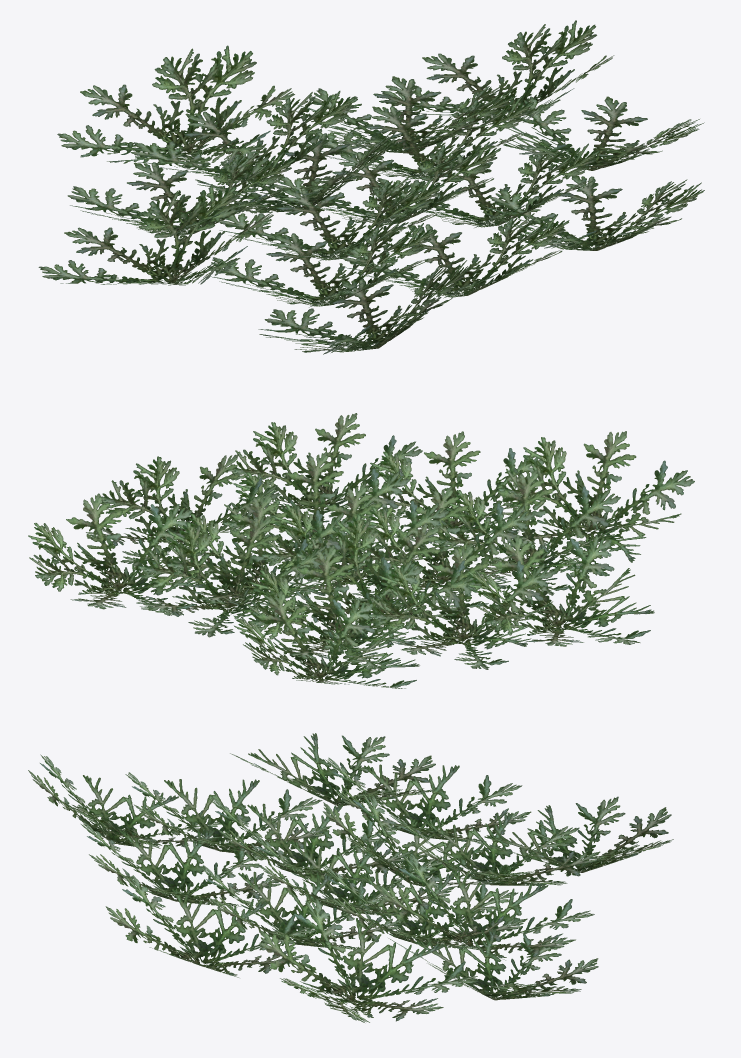
File: ptch_groundleafs_lg_l0.fbx
3 renders of one model, top to bottom at view 1: azimuth 30°, elevation 25°; view 2: azimuth 150°, elevation 25°; view 3: azimuth 270°, elevation 25°, orthographic. The views are drawn at different scales.
Parts seen in each view (by area): view 1: mesh_node; view 2: mesh_node; view 3: mesh_node.
Part boxes in pixels (x1,y1,x2,y2): mesh_node: [38, 20, 704, 354]; mesh_node: [28, 413, 694, 688]; mesh_node: [28, 733, 673, 1022].
Size of the model in its own units: 1.87 by 0.2682 by 1.74.
